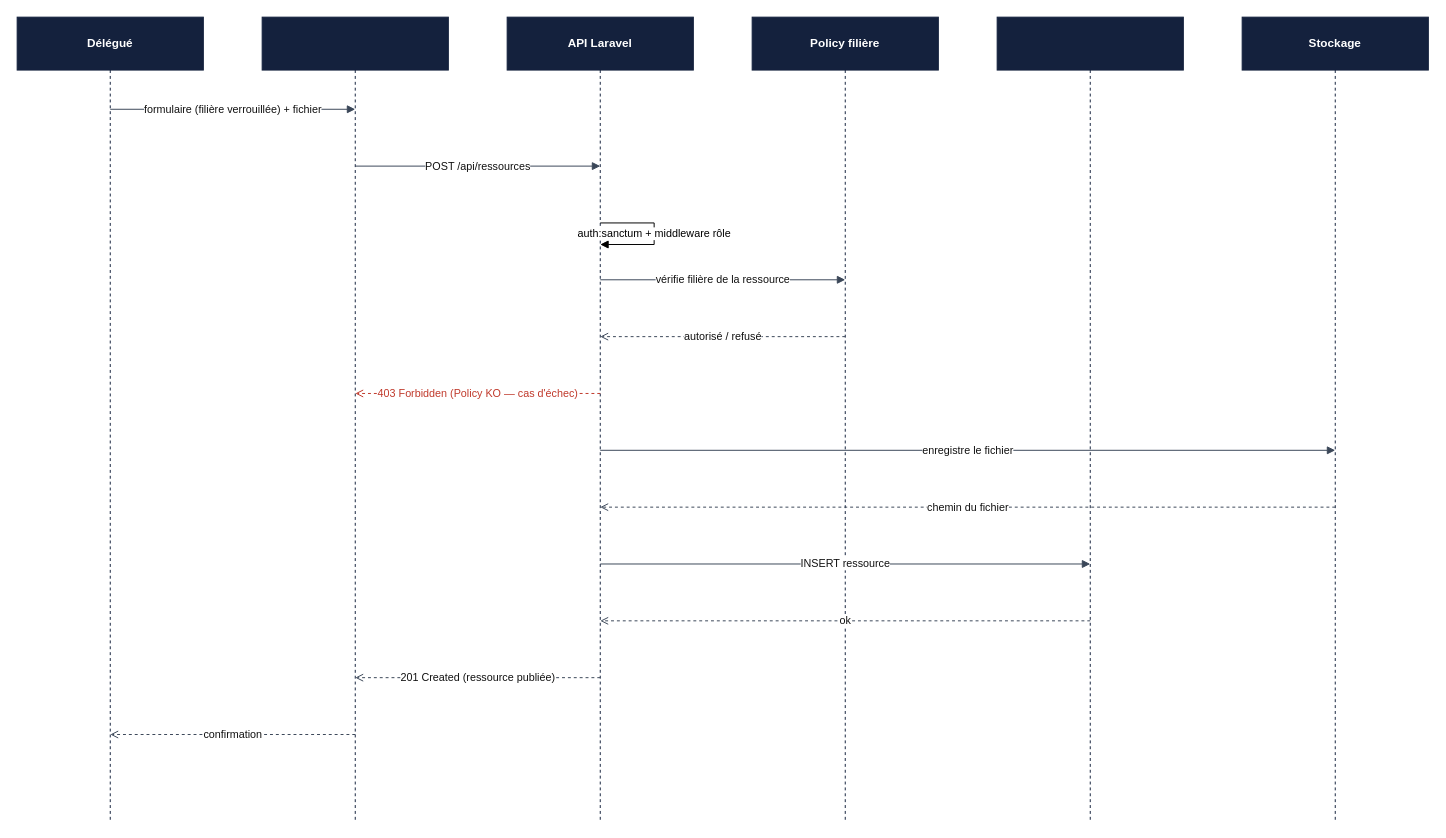
Some shapes in this 1446 by 838 pixel diagram are drawn without their labels. Here are the shapes that lost their labels. From the top down, the box of each, then its label:
(261, 16, 448, 821): Client
(996, 16, 1183, 821): MySQL
